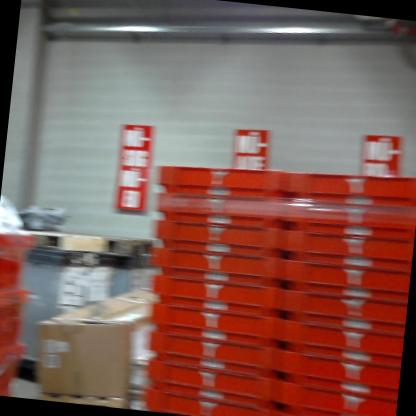pallet: (21, 215, 159, 274), (32, 380, 135, 406)
small_load_carrier: (144, 259, 293, 315), (148, 181, 293, 233), (133, 355, 278, 405), (138, 323, 279, 372), (148, 238, 288, 287), (267, 343, 401, 394), (141, 299, 283, 347), (153, 208, 288, 258), (274, 281, 405, 330), (288, 156, 416, 206), (276, 252, 409, 300), (283, 216, 413, 265), (157, 157, 292, 202), (270, 311, 402, 357), (285, 192, 416, 237), (133, 381, 274, 416), (268, 378, 395, 416), (0, 228, 46, 296), (0, 287, 40, 357), (269, 403, 394, 416), (0, 349, 23, 396)
